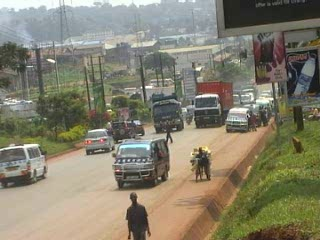Car: (82, 126, 117, 156), (109, 119, 139, 144), (132, 117, 147, 136)
Motorcycle: (182, 110, 194, 125)
